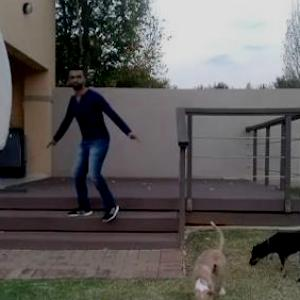land: (56, 66, 130, 230)
